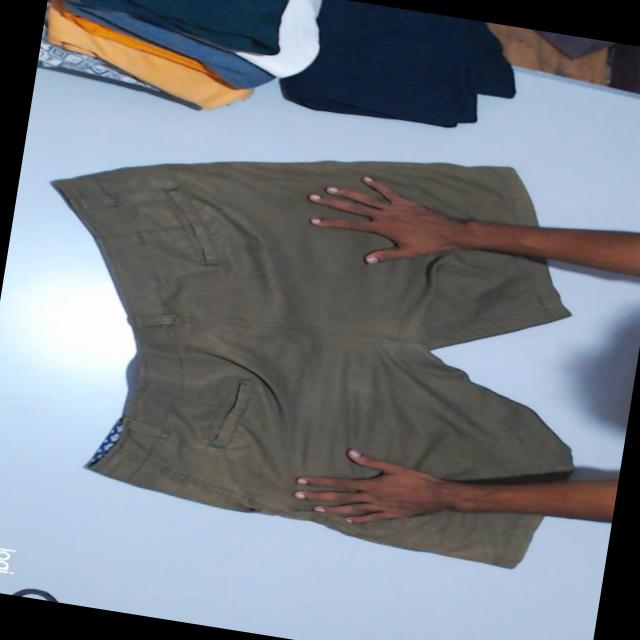new-garment: (52, 162, 572, 568)
